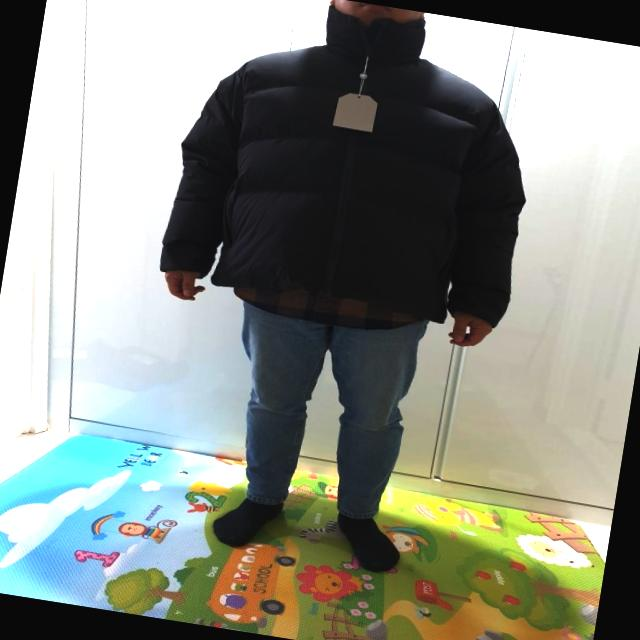denimpants: (204, 296, 427, 528)
padding: (150, 0, 551, 343)
